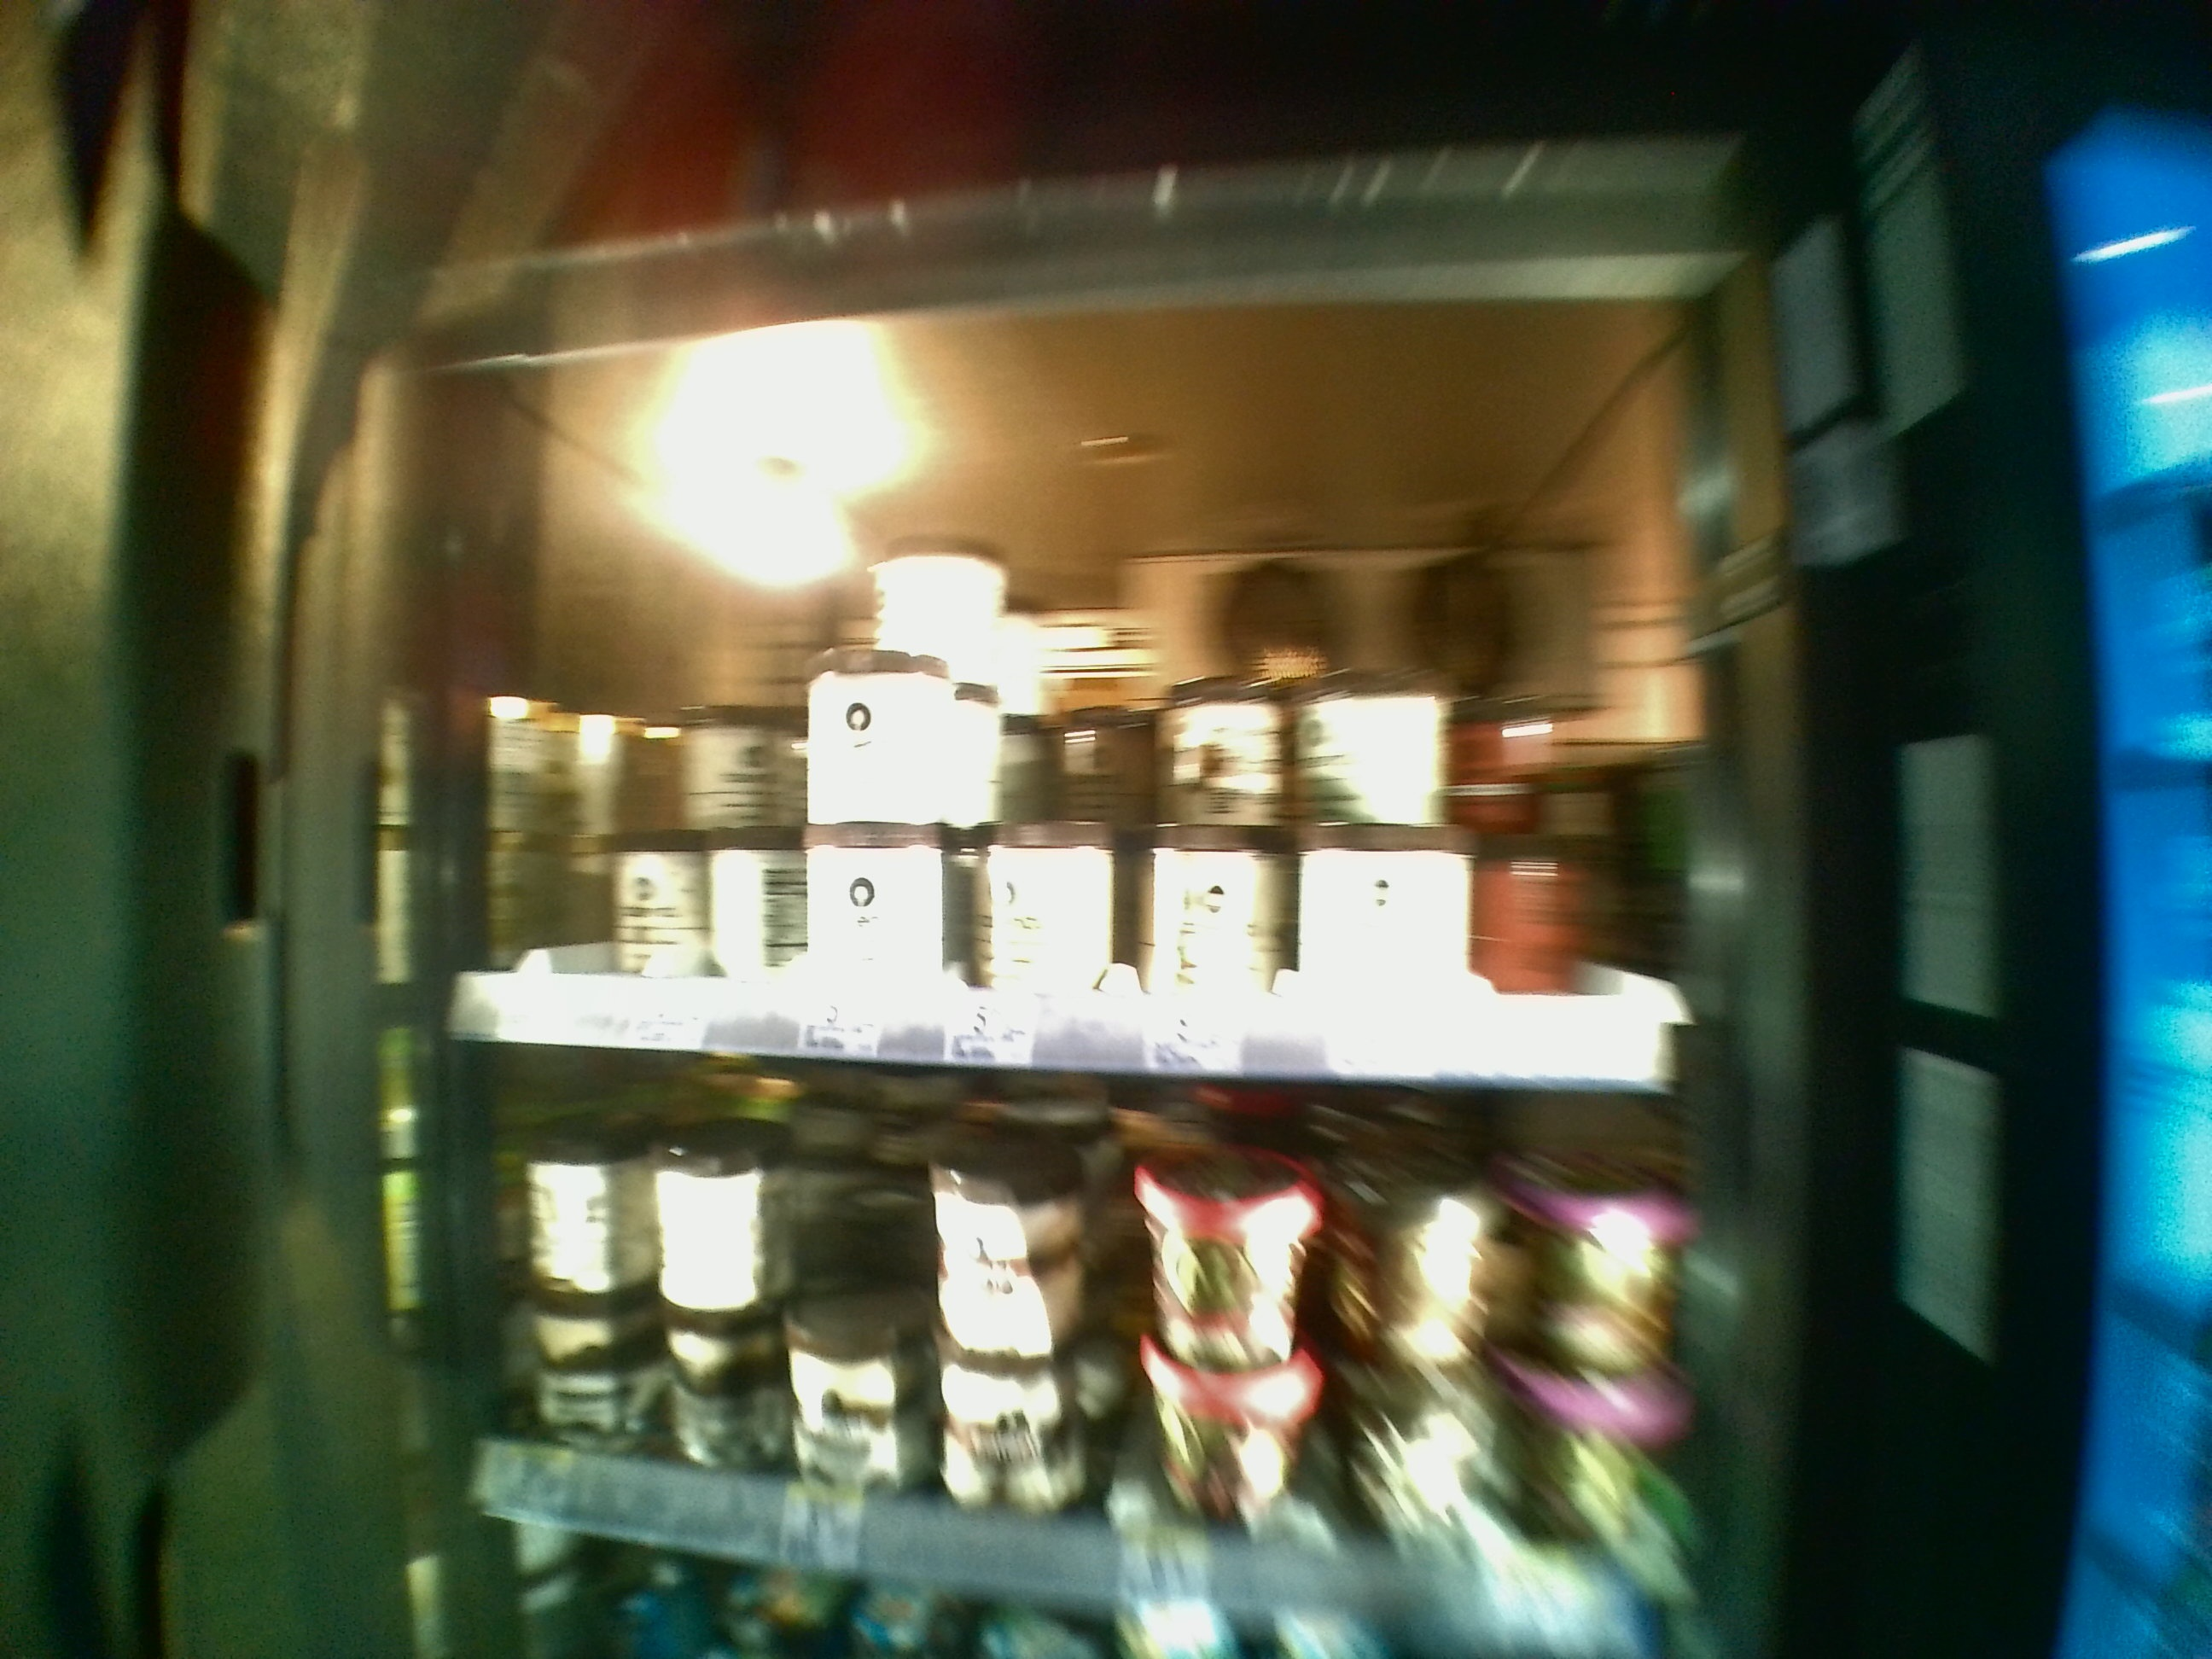shelf: (435, 376, 1700, 1044)
